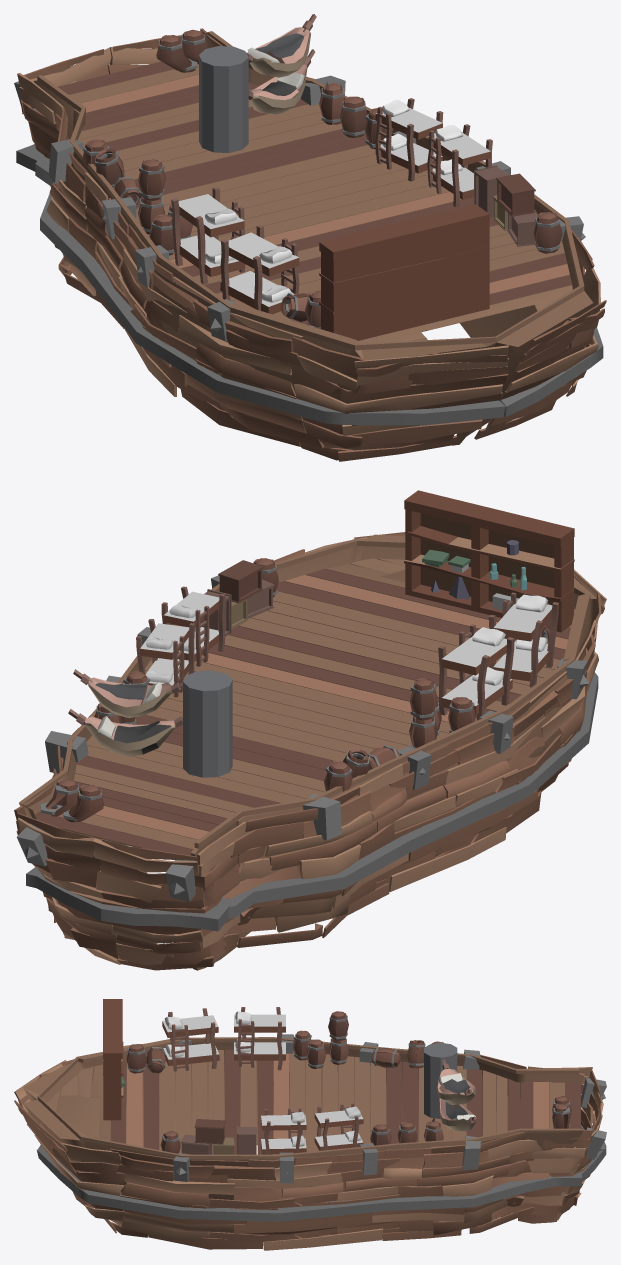
3 renders of one model, top to bottom at view 1: azimuth 30°, elevation 25°; view 2: azimuth 150°, elevation 25°; view 3: azimuth 270°, elevation 25°, orthographic. The views are drawn at different scales.
Visible parts, largest first — view 1: segment_5; view 2: segment_5; view 3: segment_5.
Boxes of the visible parts, x1,y1,x2,y2 form: segment_5: (14,14,606,461); segment_5: (14,490,606,970); segment_5: (14,999,606,1250).
Bounding box in the file's own units: 34.02 × 18.65 × 63.39.
